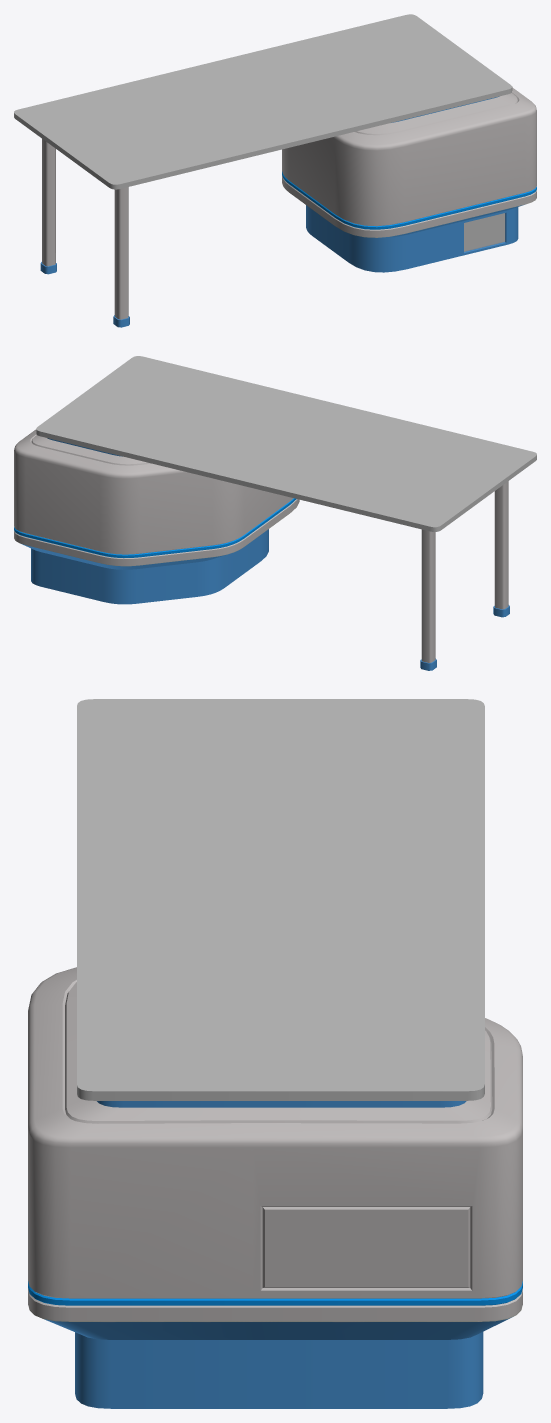
File: LabDeskB.fbx
3 renders of one model, top to bottom at view 1: azimuth 30°, elevation 25°; view 2: azimuth 150°, elevation 25°; view 3: azimuth 270°, elevation 25°, orthographic. The views are drawn at different scales.
Visible parts, largest first — view 1: LabDeskB; view 2: LabDeskB; view 3: LabDeskB.
Boxes of the visible parts, x1,y1,x2,y2 form: LabDeskB: (14,14,536,327); LabDeskB: (14,356,536,670); LabDeskB: (28,699,522,1408).
Size of the model in its own units: 228 by 80.55 by 117.
